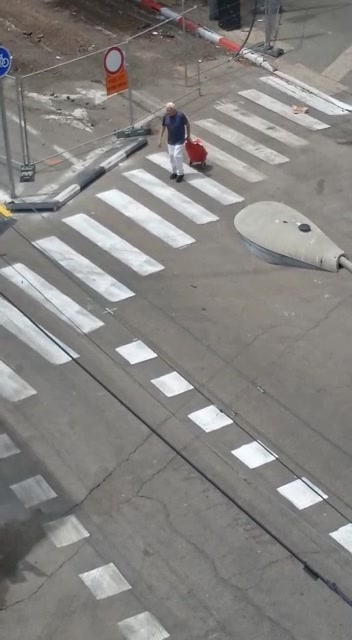crosswalk: (28, 81, 296, 301)
person: (150, 84, 212, 197)
